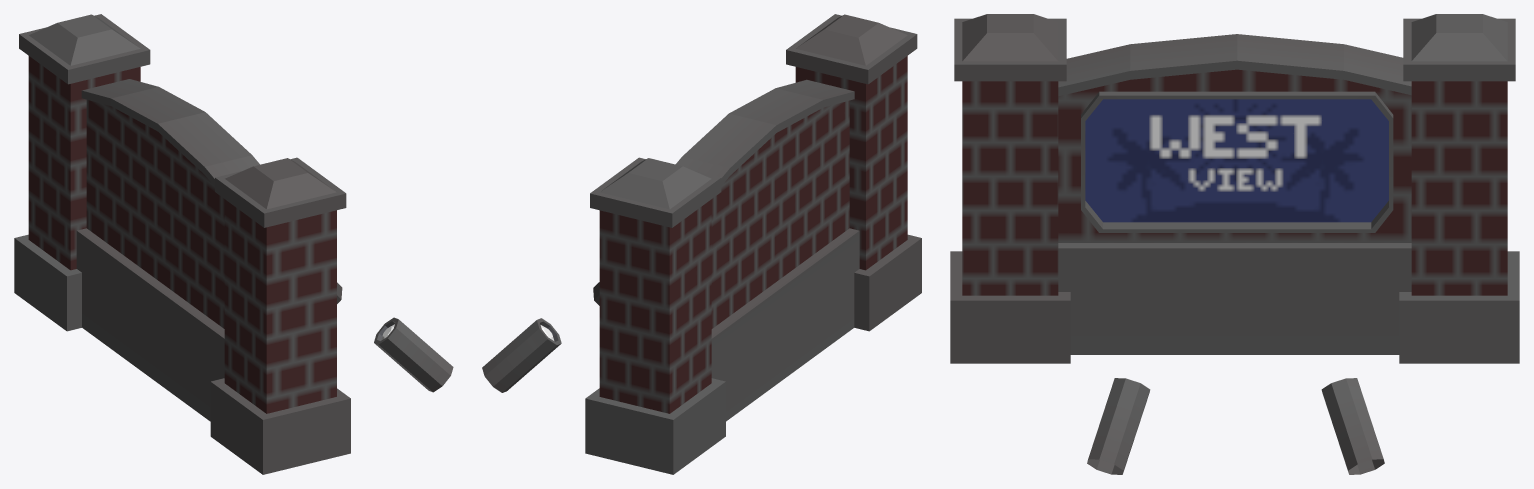
The model's file is West_View.fbx.
3 renders of one model, left to right at view 1: azimuth 30°, elevation 25°; view 2: azimuth 150°, elevation 25°; view 3: azimuth 270°, elevation 25°, orthographic. The views are drawn at different scales.
Visible parts, largest first — view 1: Cube.002; view 2: Cube.002; view 3: Cube.002.
Boxes of the visible parts, x1,y1,x2,y2 form: Cube.002: (14, 14, 453, 474); Cube.002: (482, 14, 921, 474); Cube.002: (950, 14, 1519, 474).
Size of the model in its own units: 332 by 371 by 556.
Materials: 1 (1 with a texture image).
